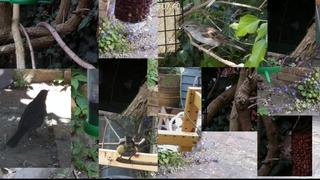blackbird: (6, 89, 51, 148)
blue tit: (116, 136, 138, 164)
mouse: (279, 136, 292, 160)
sparrow: (178, 20, 248, 58)
